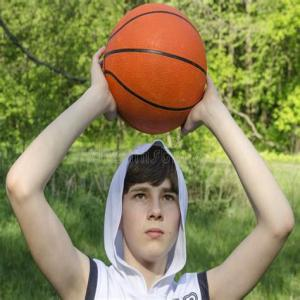Basket: (101, 3, 208, 137)
